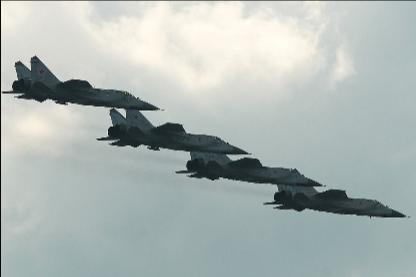Mig31: (1, 54, 166, 111), (94, 108, 254, 154), (174, 150, 328, 188), (261, 184, 411, 218)
